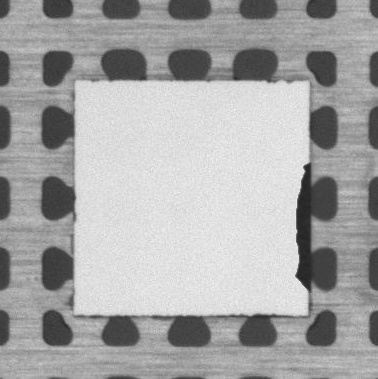DIE_BROKEN: (293, 157, 313, 289)
